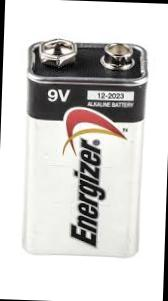battery: (8, 20, 159, 274)
